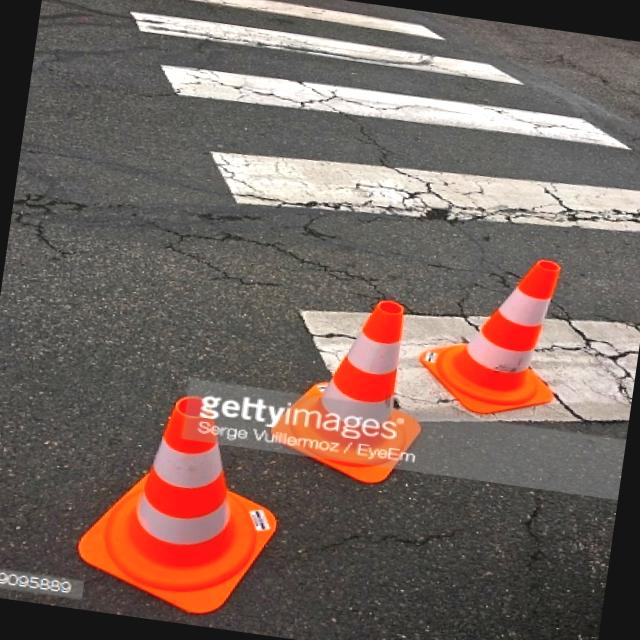cone: (72, 354, 303, 614), (238, 266, 442, 486), (408, 211, 600, 434)
